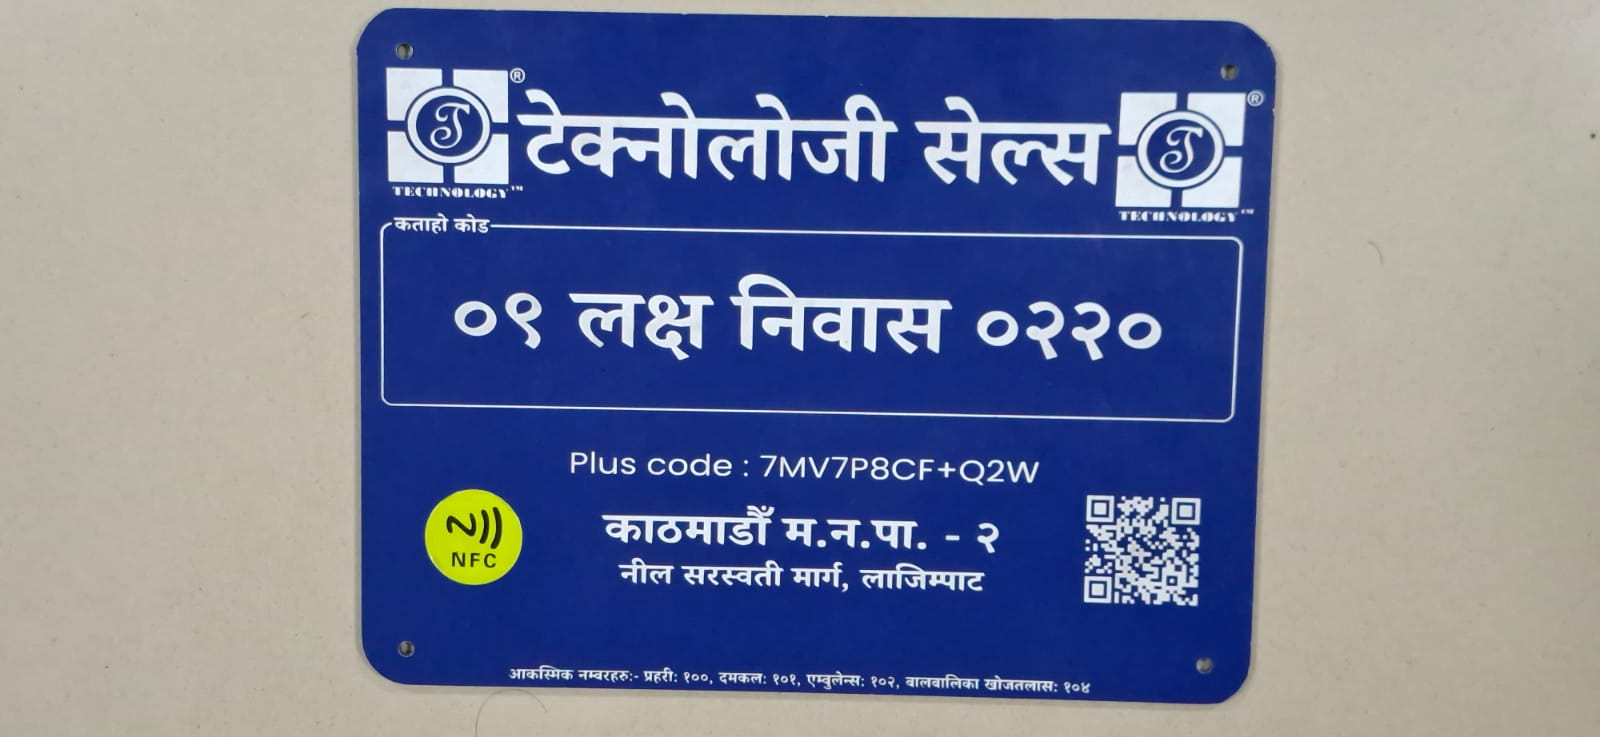Plate: (351, 5, 1281, 708)
